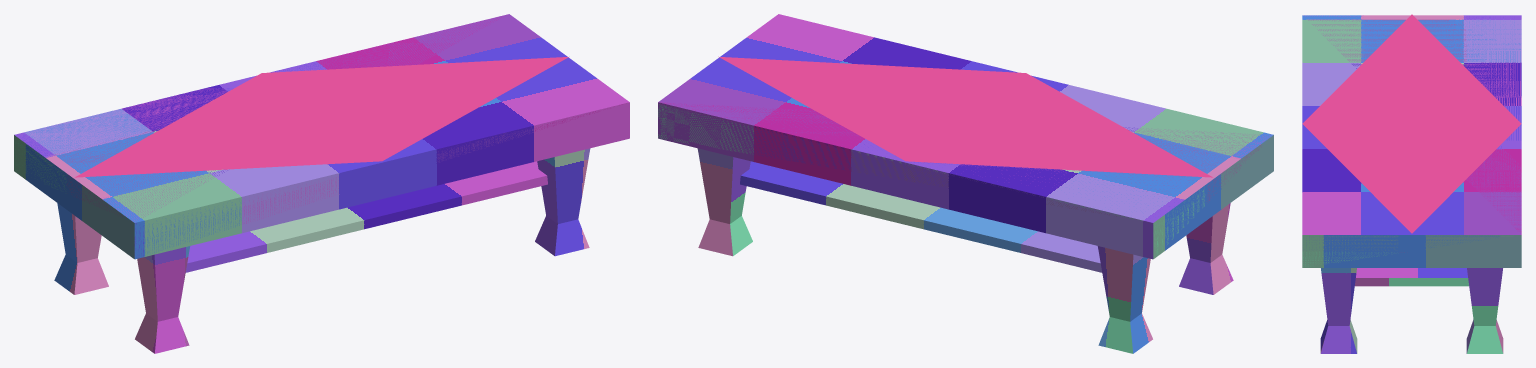
File: rmk_lov_tableM_jwl.dae
3 views of the same model, side by side, from view 1: azimuth 30°, elevation 25°; view 2: azimuth 150°, elevation 25°; view 3: azimuth 270°, elevation 25° (orthographic). The views are drawn at different scales.
Parts seen in each view (by area): view 1: rmk_lov_tableM_jwl; view 2: rmk_lov_tableM_jwl; view 3: rmk_lov_tableM_jwl.
Boxes of the visible parts, x1=… form: rmk_lov_tableM_jwl: x1=14, y1=14, x2=629, y2=353; rmk_lov_tableM_jwl: x1=658, y1=14, x2=1273, y2=353; rmk_lov_tableM_jwl: x1=1302, y1=14, x2=1521, y2=353.
Size of the model in its own units: 56.94 by 16.15 by 24.
Materials: 2 (2 with a texture image).
